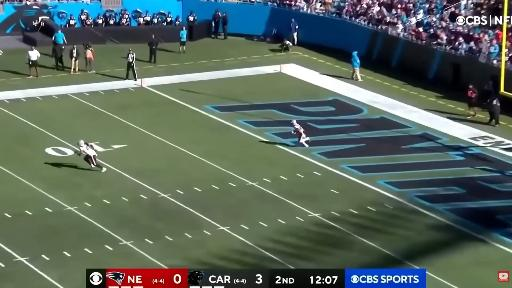Helmet: (79, 140, 84, 146), (292, 120, 296, 124)
Jersey: (80, 144, 97, 156), (294, 124, 303, 134)
Player: (79, 140, 106, 171), (292, 120, 309, 147)
